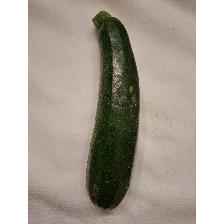Zucchini: (83, 7, 141, 210)
